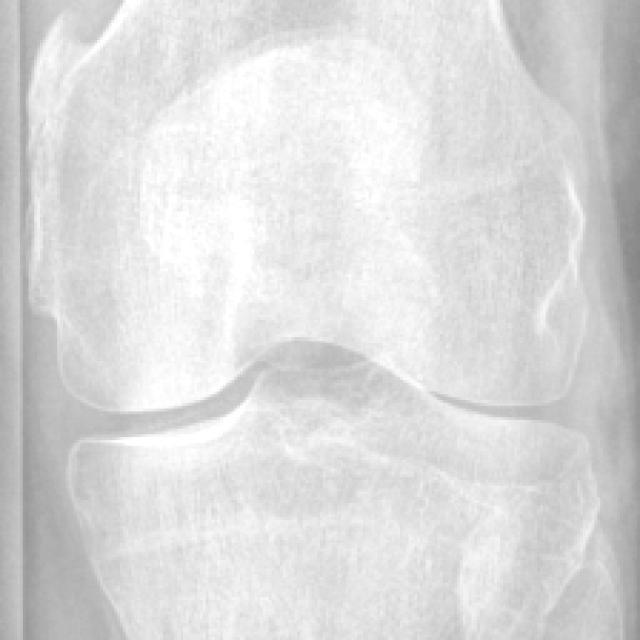femur: (26, 0, 590, 415)
tibia: (66, 366, 602, 640)
